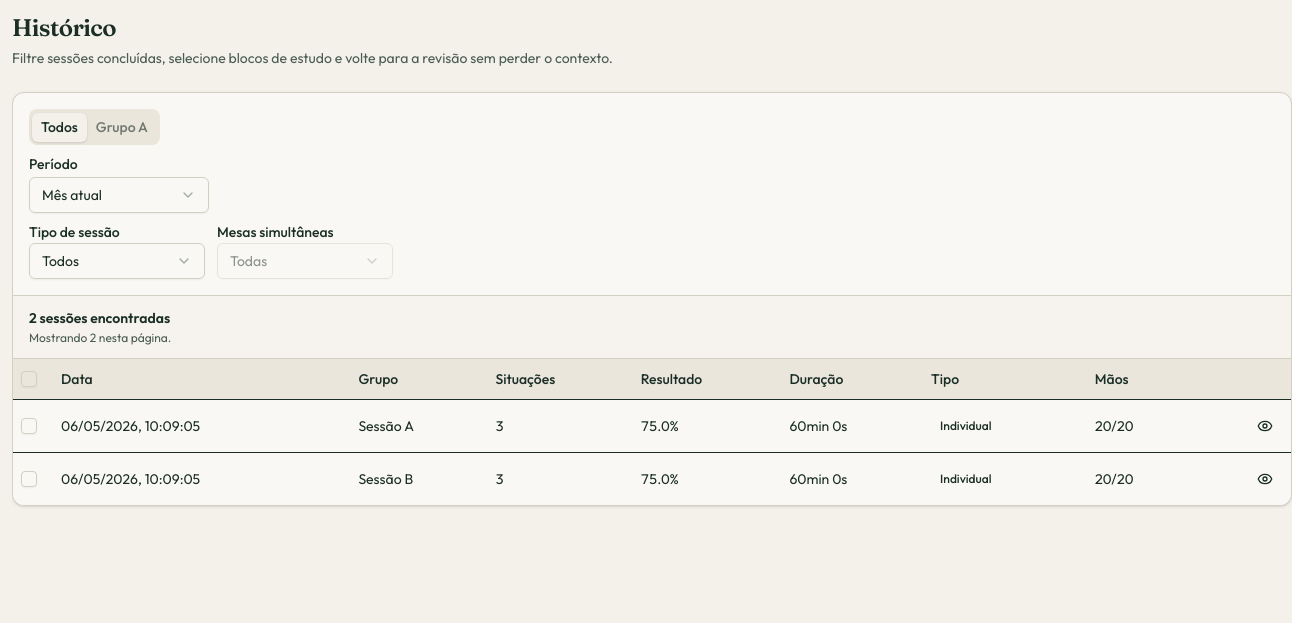
Scenario: HistoryPage › barra de ações visível quando sessões selecionadas
Expected: the text "Sessão A" is shown, [350, 399, 487, 452]
Click the checkbox in the row of "Sessão A".
click(29, 426)  # box [21, 418, 37, 434]
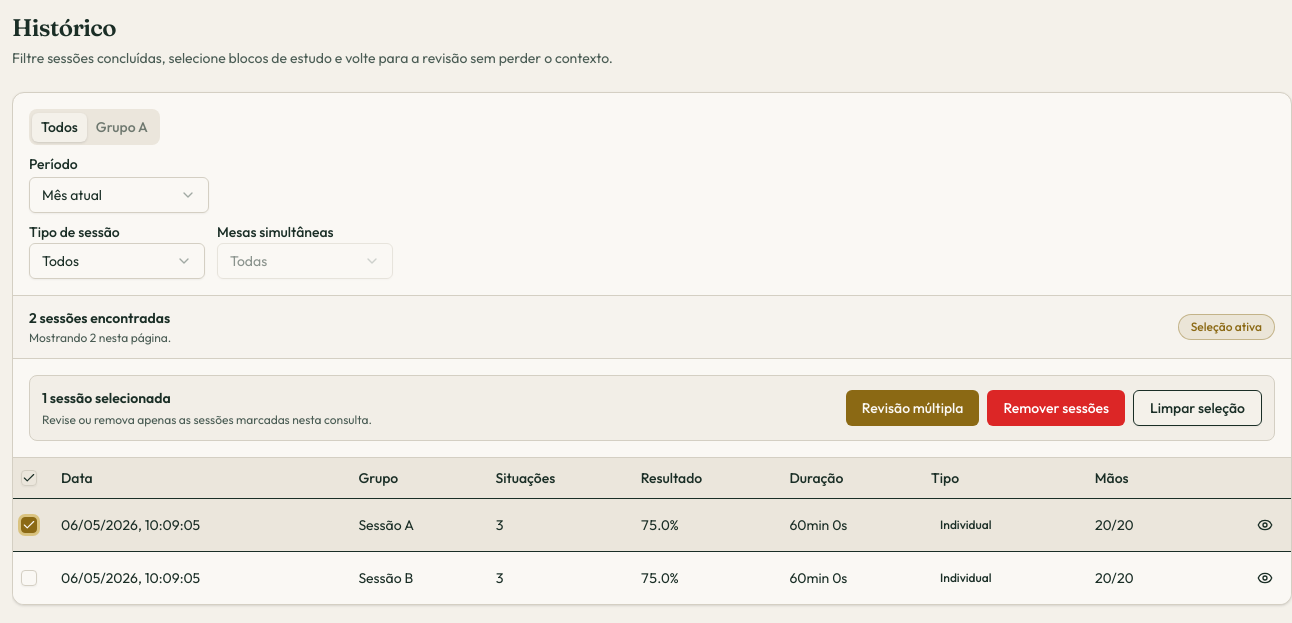
Result: the message with test id "selection-toolbar" is shown at [29, 375, 1275, 441]
Result: the text with test id "selection-count" reads "1 sessão selecionada" at [42, 389, 171, 407]
